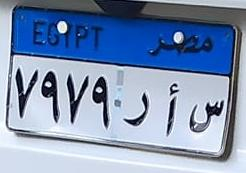7: (12, 65, 38, 120), (65, 72, 90, 127)
9: (39, 69, 61, 125), (91, 74, 112, 131)
alif: (159, 82, 181, 139)
raa: (121, 86, 150, 133)
seen: (185, 90, 225, 135)
